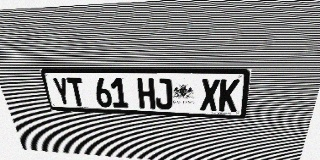1: (109, 78, 128, 108)
6: (93, 78, 113, 107)
H: (137, 78, 155, 109)
J: (154, 78, 172, 110)
K: (218, 79, 240, 112)
T: (66, 77, 87, 106)
X: (200, 79, 220, 111)
Y: (52, 77, 72, 106)
